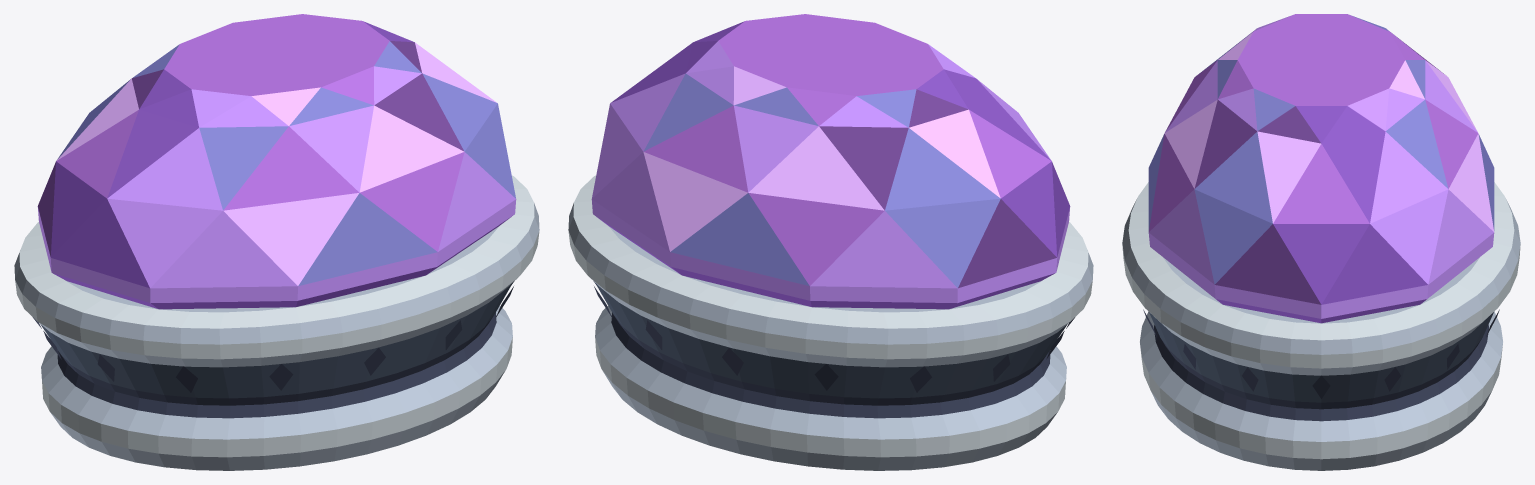
The model's file is Refine_Catalyst.glb.
The picture shows the model from 3 angles, left to right: view 1: azimuth 30°, elevation 25°; view 2: azimuth 150°, elevation 25°; view 3: azimuth 270°, elevation 25°; orthographic projection. The views are drawn at different scales.
Visible parts, largest first — view 1: Refine_Catalyst; view 2: Refine_Catalyst; view 3: Refine_Catalyst.
Part boxes in pixels (x1,y1,x2,y2): Refine_Catalyst: [14, 14, 539, 470]; Refine_Catalyst: [568, 14, 1093, 470]; Refine_Catalyst: [1122, 14, 1520, 470].
Size of the model in its own units: 1.09 by 0.735 by 0.822.
